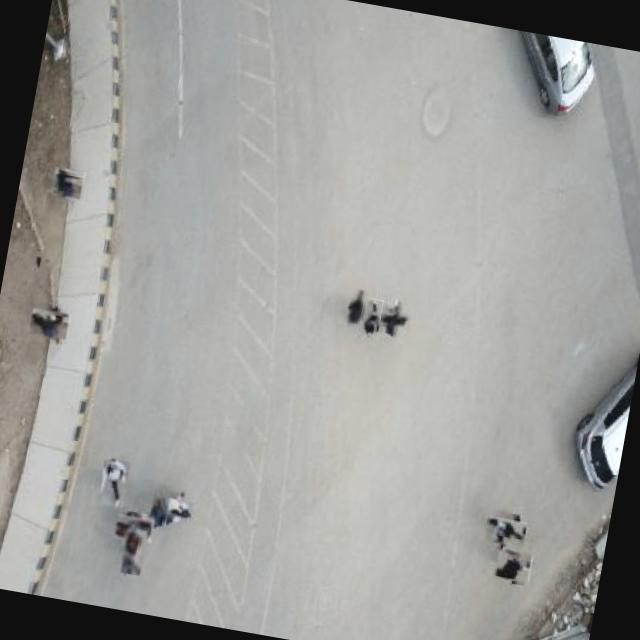Person: (96, 456, 130, 508), (29, 305, 67, 344), (486, 514, 524, 552), (119, 528, 147, 576), (494, 548, 531, 584), (115, 512, 152, 548), (50, 166, 84, 200), (360, 296, 384, 340), (375, 304, 407, 336), (158, 492, 190, 524), (344, 289, 367, 328), (148, 494, 170, 528)
